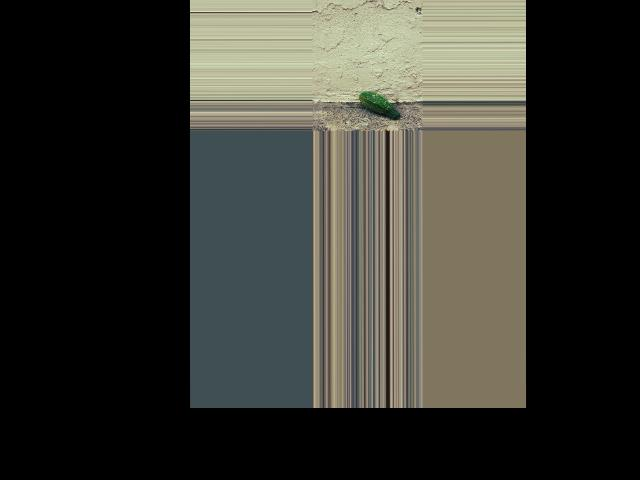cucumber: (358, 90, 399, 119)
